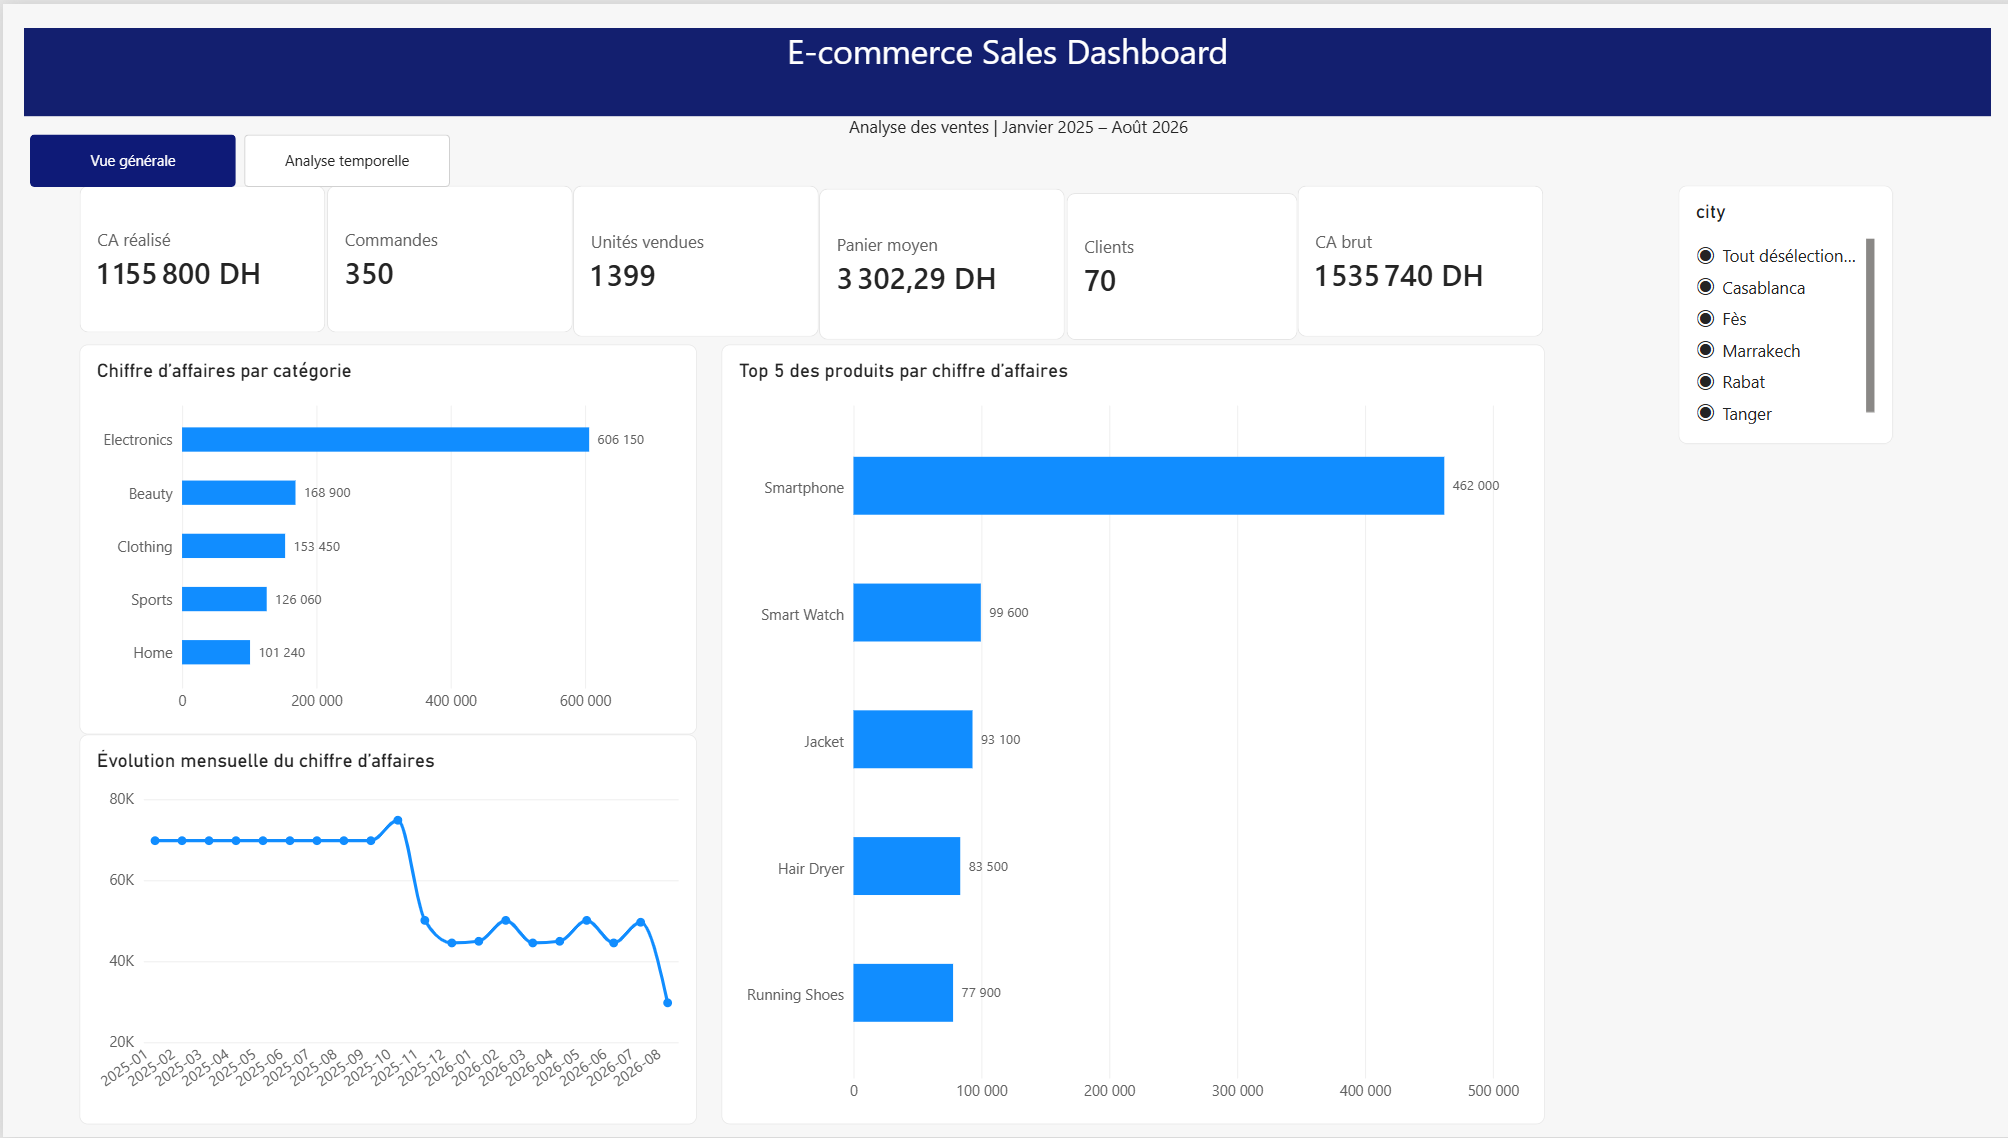

The dashboard page shown, as its layout file describes it:
{"tool":"powerbi","page":{"name":"Vue générale","canvas":[1920,1080],"ordinal":0},"visuals":[{"type":"cardVisual","fields":{"Data":["order_items.Total Revenue Card"]},"box":[1232.7,173.5,234.7,144.9],"z":1},{"type":"cardVisual","fields":{"Data":["order_items.Completed Revenue Card"]},"box":[73.5,173.5,234.7,140.8],"z":2},{"type":"cardVisual","fields":{"Data":["order_items.Units Sold Card"]},"box":[542.9,173.5,234.7,144.9],"z":3},{"type":"cardVisual","fields":{"Data":["order_items.Completed Orders"]},"box":[308.2,173.5,234.7,140.8],"z":4},{"type":"cardVisual","fields":{"Data":["order_items.Purchasing Customers"]},"box":[1012.2,179.6,220.4,140.8],"z":5},{"type":"cardVisual","fields":{"Data":["order_items.Average Order Value Card"]},"box":[777.6,175.5,234.7,144.9],"z":6},{"type":"clusteredBarChart","title":"Chiffre d’affaires par catégorie","fields":{"Category":["categories.category_name"],"Y":["order_items.Completed Revenue"]},"box":[73.5,324.5,587.8,371.4],"z":7},{"type":"lineChart","title":"Évolution mensuelle du chiffre d’affaires","fields":{"Category":["Calendar.Year Month"],"Y":["order_items.Completed Revenue"]},"box":[73.5,695.9,587.8,371.4],"z":8},{"type":"clusteredBarChart","title":"Top 5 des produits par chiffre d’affaires","fields":{"Category":["products.product_name"],"Y":["order_items.Completed Revenue"]},"box":[683.7,324.5,783.7,742.9],"z":9},{"type":"listSlicer","fields":{"Values":["customers.city"]},"box":[1595.9,173.5,204.3,245.7],"z":10},{"type":"textbox","box":[20.4,22.4,1873.5,83.7],"z":11},{"type":"textbox","box":[806.1,106.1,910.2,34.7],"z":12},{"type":"pageNavigator","box":[26,124,400,50],"z":13}]}

Visuals, with their boxes in screenshot pixels (x1, y1, x2, y2), scaled from the page's 1920x1080 canvas onto the 2008x1138 screenshot:
cardVisual - order_items.Total Revenue Card: region(1289, 183, 1535, 335)
cardVisual - order_items.Completed Revenue Card: region(77, 183, 322, 331)
cardVisual - order_items.Units Sold Card: region(568, 183, 813, 335)
cardVisual - order_items.Completed Orders: region(322, 183, 568, 331)
cardVisual - order_items.Purchasing Customers: region(1059, 189, 1289, 338)
cardVisual - order_items.Average Order Value Card: region(813, 185, 1059, 338)
"Chiffre d’affaires par catégorie" clusteredBarChart: region(77, 342, 692, 733)
"Évolution mensuelle du chiffre d’affaires" lineChart: region(77, 733, 692, 1125)
"Top 5 des produits par chiffre d’affaires" clusteredBarChart: region(715, 342, 1535, 1125)
listSlicer - customers.city: region(1669, 183, 1883, 442)
textbox: region(21, 24, 1981, 112)
textbox: region(843, 112, 1795, 148)
pageNavigator: region(27, 131, 446, 183)
